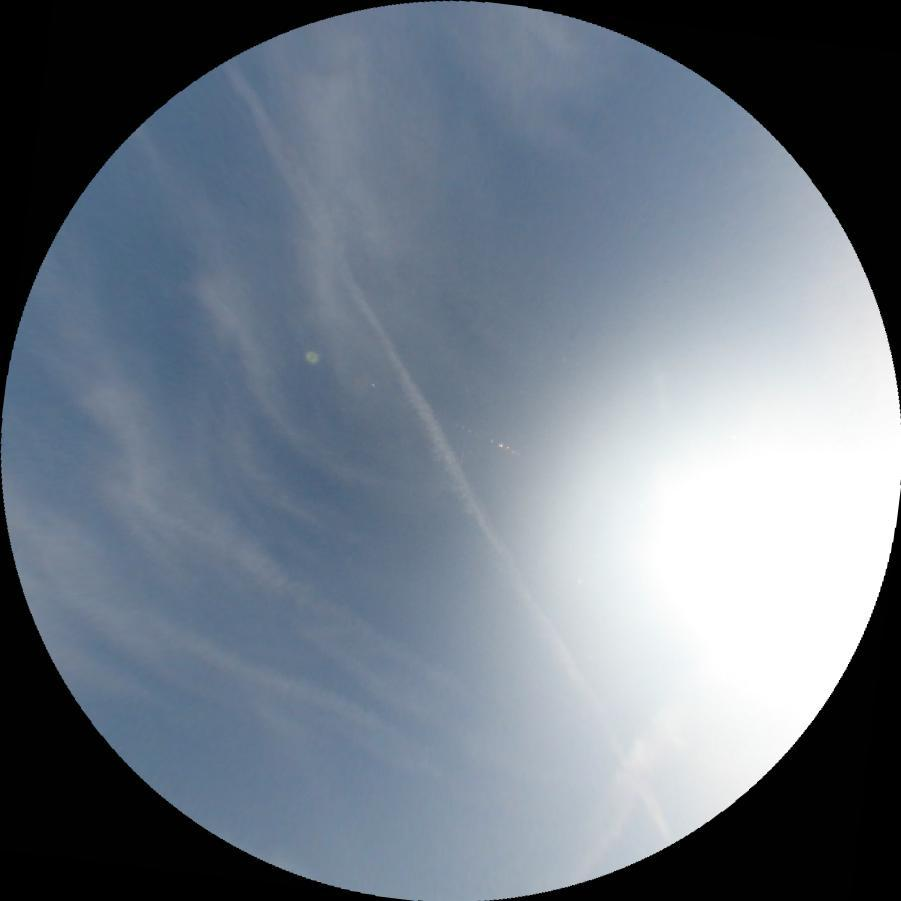contrail veryold: (216, 55, 676, 849), (146, 494, 525, 768), (69, 563, 451, 815), (529, 729, 677, 901)
sun: (626, 431, 901, 694)
